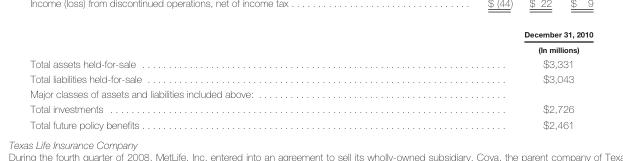table: (29, 29, 592, 130)
table column: (29, 29, 332, 130), (332, 29, 592, 130)
table column header: (29, 29, 592, 55)
table projected row header: (29, 86, 592, 101)
table row: (29, 29, 592, 55), (29, 55, 592, 71), (29, 71, 592, 86), (29, 86, 592, 101), (29, 101, 592, 116), (29, 116, 592, 130)
